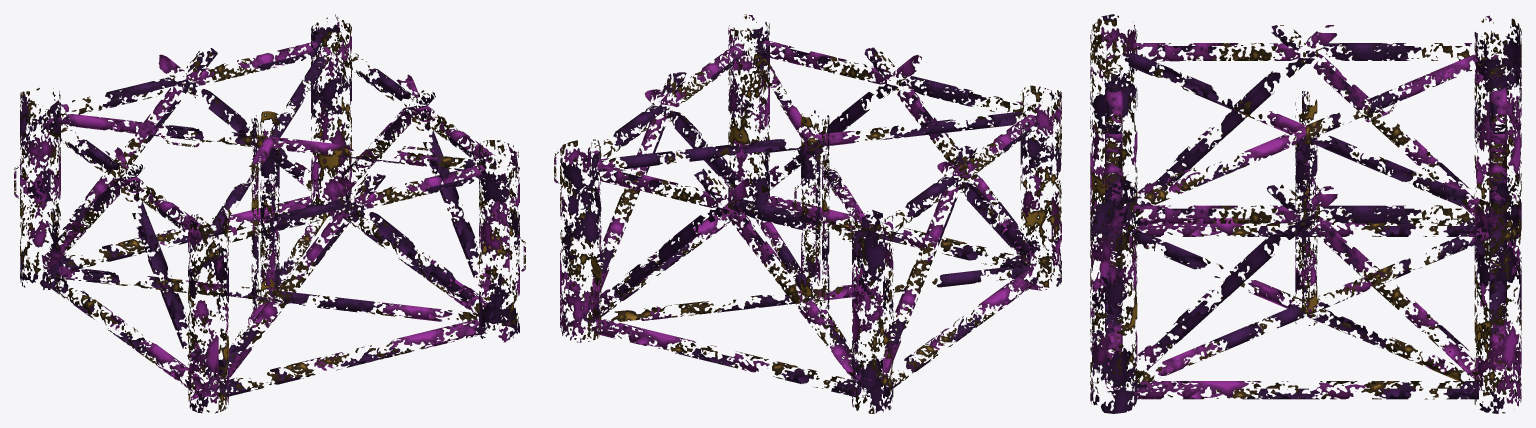
The model's file is oilRig_dream_a.fbx.
3 renders of one model, left to right at view 1: azimuth 30°, elevation 25°; view 2: azimuth 150°, elevation 25°; view 3: azimuth 270°, elevation 25°, orthographic. The views are drawn at different scales.
Visible parts, largest first — view 1: oilrigpier00; view 2: oilrigpier00; view 3: oilrigpier00.
Part boxes in pixels (box(x1,y1,x2,y2)): oilrigpier00: box(14, 14, 525, 413); oilrigpier00: box(554, 14, 1061, 413); oilrigpier00: box(1090, 14, 1521, 413).
Bounding box in the file's own units: 28.07 × 16.05 × 28.07.
